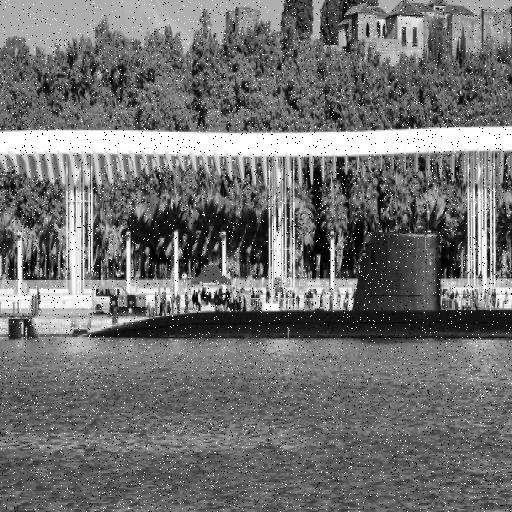submarine: (73, 214, 512, 340)
